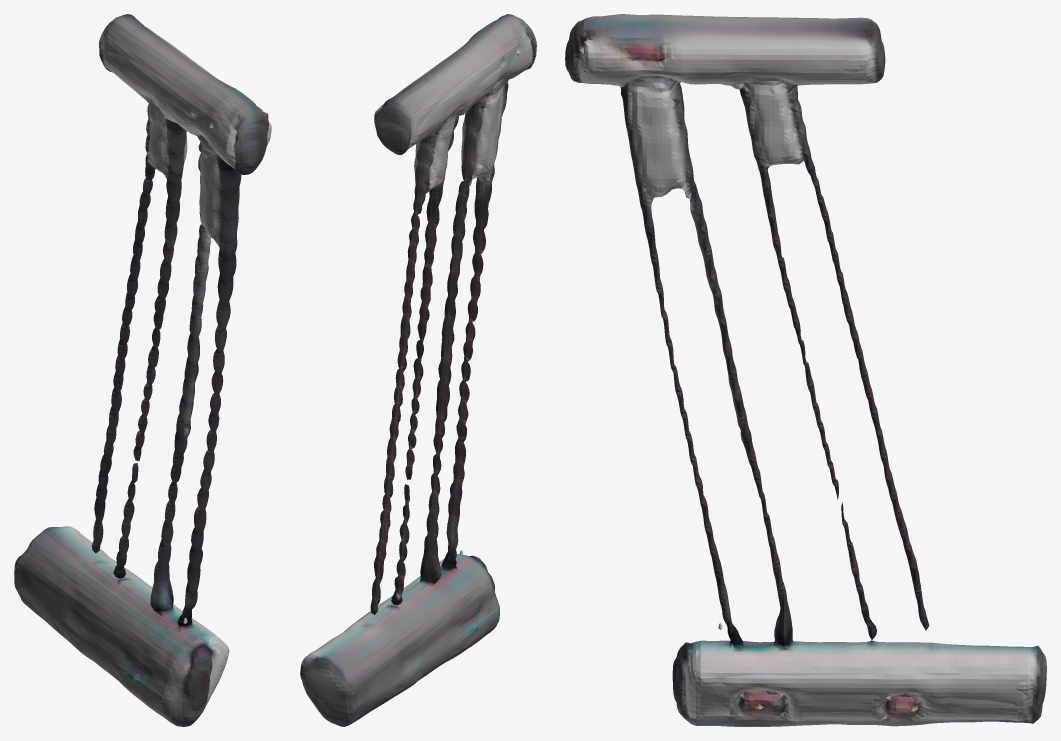
The model's file is triposr_safety_fence.glb.
The picture shows the model from 3 angles, left to right: view 1: azimuth 30°, elevation 25°; view 2: azimuth 150°, elevation 25°; view 3: azimuth 270°, elevation 25°; orthographic projection. The views are drawn at different scales.
Visible parts, largest first — view 1: geometry_0; view 2: geometry_0; view 3: geometry_0.
Boxes of the visible parts, x1,y1,x2,y2 form: geometry_0: [14, 14, 271, 726]; geometry_0: [300, 14, 536, 726]; geometry_0: [565, 14, 1046, 726].
Size of the model in its own units: 0.1295 by 1.1 by 0.6728.
